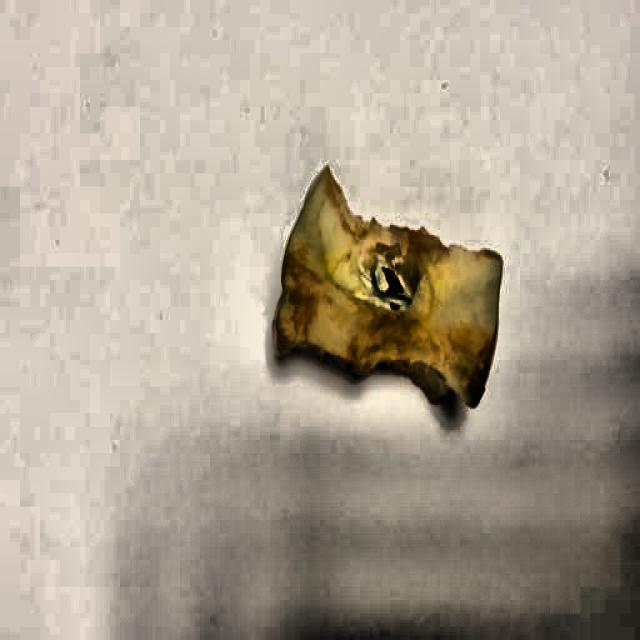trash: (267, 170, 507, 422)
